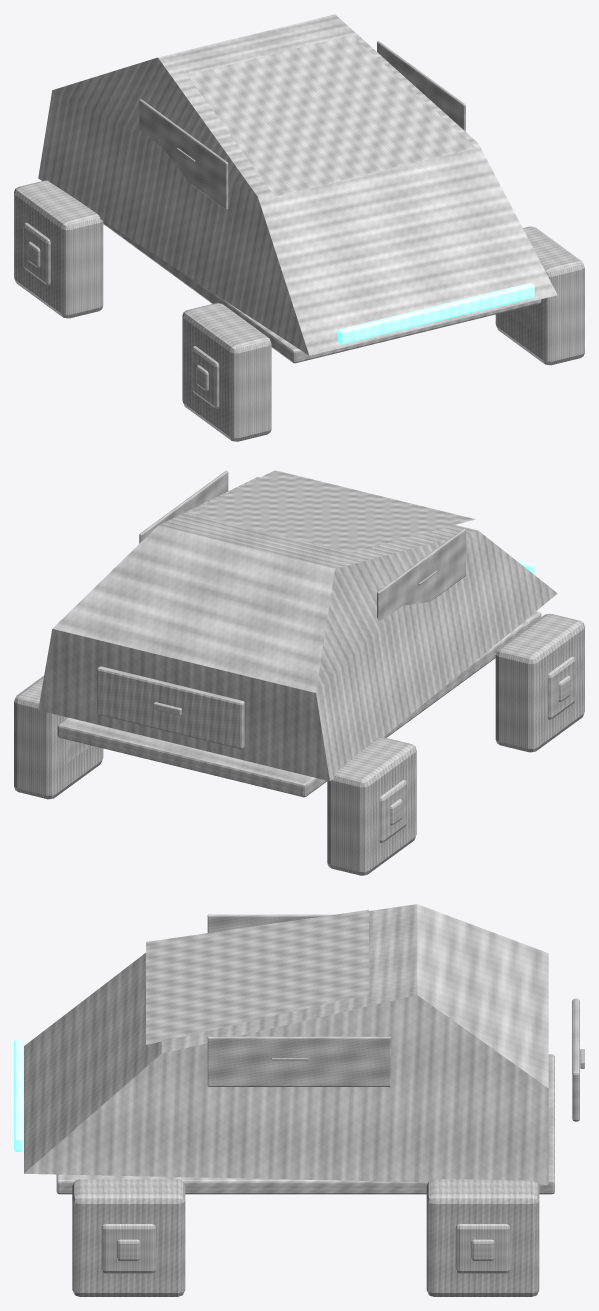
The model's file is cyber_wagon_variant_a.glb.
The picture shows the model from 3 angles, top to bottom: view 1: azimuth 30°, elevation 25°; view 2: azimuth 150°, elevation 25°; view 3: azimuth 270°, elevation 25°; orthographic projection. The views are drawn at different scales.
Visible parts, largest first — view 1: Faceted wedge body, Angled windshield, Square wheel, Square wheel.001, Square wheel.002, Angular side window.001, Front light bar, Lower chassis skid plate, Angular side window, Square wheel hub, Square wheel hub.001; view 2: Faceted wedge body, Angled windshield, Square wheel, Square wheel.001, Lower chassis skid plate, Rear cargo hatch, Square wheel.003, Angular side window.001, Angular side window, Square wheel hub, Square wheel hub.001; view 3: Faceted wedge body, Angled windshield, Square wheel.002, Square wheel.003, Angular side window, Lower chassis skid plate, Square wheel hub.003, Square wheel hub.002, Angular side window.001, Front light bar, Rear cargo hatch, Hub center.002 (+1 smaller).
Part boxes in pixels (x1=…): Faceted wedge body: x1=38, y1=14, x2=557, y2=355; Angled windshield: x1=187, y1=35, x2=475, y2=196; Square wheel: x1=182, y1=303, x2=271, y2=441; Square wheel.001: x1=14, y1=180, x2=103, y2=318; Square wheel.002: x1=495, y1=226, x2=584, y2=365; Angular side window.001: x1=139, y1=99, x2=228, y2=209; Front light bar: x1=337, y1=283, x2=534, y2=344; Lower chassis skid plate: x1=103, y1=221, x2=541, y2=363; Angular side window: x1=377, y1=41, x2=465, y2=131; Square wheel hub: x1=192, y1=346, x2=219, y2=408; Square wheel hub.001: x1=23, y1=222, x2=50, y2=285; Faceted wedge body: x1=38, y1=477, x2=557, y2=781; Angled windshield: x1=188, y1=470, x2=475, y2=552; Square wheel: x1=495, y1=613, x2=584, y2=752; Square wheel.001: x1=327, y1=737, x2=416, y2=875; Lower chassis skid plate: x1=57, y1=611, x2=541, y2=797; Rear cargo hatch: x1=97, y1=666, x2=244, y2=749; Square wheel.003: x1=14, y1=676, x2=103, y2=799; Angular side window.001: x1=377, y1=528, x2=465, y2=620; Angular side window: x1=139, y1=470, x2=228, y2=543; Square wheel hub: x1=548, y1=656, x2=575, y2=719; Square wheel hub.001: x1=379, y1=780, x2=406, y2=842; Faceted wedge body: x1=24, y1=904, x2=548, y2=1184; Angled windshield: x1=146, y1=910, x2=368, y2=1044; Square wheel.002: x1=72, y1=1179, x2=185, y2=1296; Square wheel.003: x1=426, y1=1179, x2=539, y2=1296; Angular side window: x1=207, y1=1036, x2=391, y2=1086; Lower chassis skid plate: x1=56, y1=1054, x2=554, y2=1194; Square wheel hub.003: x1=455, y1=1224, x2=510, y2=1273; Square wheel hub.002: x1=101, y1=1224, x2=155, y2=1273; Angular side window.001: x1=207, y1=914, x2=333, y2=932; Front light bar: x1=14, y1=1039, x2=23, y2=1151; Rear cargo hatch: x1=572, y1=998, x2=579, y2=1121; Hub center.002: x1=117, y1=1239, x2=140, y2=1260.
Size of what is drawn, in the model's own units: 3.39 by 2.18 by 4.35.
9 materials, 9 textured.
